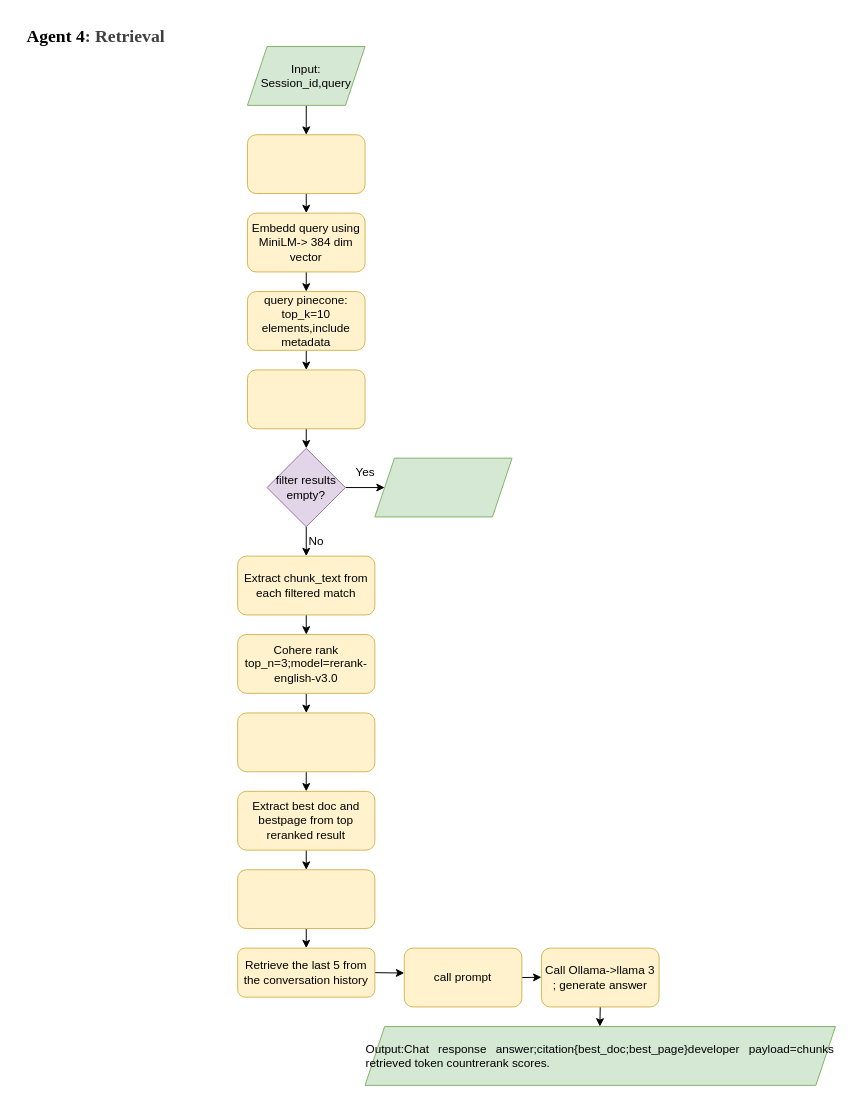
This 853x1103 diagram has some shape labels left out. Each missing label, with the box of its shape:
Build a rerank context-top 3 chunks joined by a seperator: (237, 712, 375, 772)
Connect to pinecone index: (246, 134, 365, 194)
Count tokens-sum of word counts from across chunks: (237, 869, 375, 929)
filter matches by similarity score >=0.3: (246, 369, 365, 429)
Output: not found in documents: (374, 457, 512, 517)
